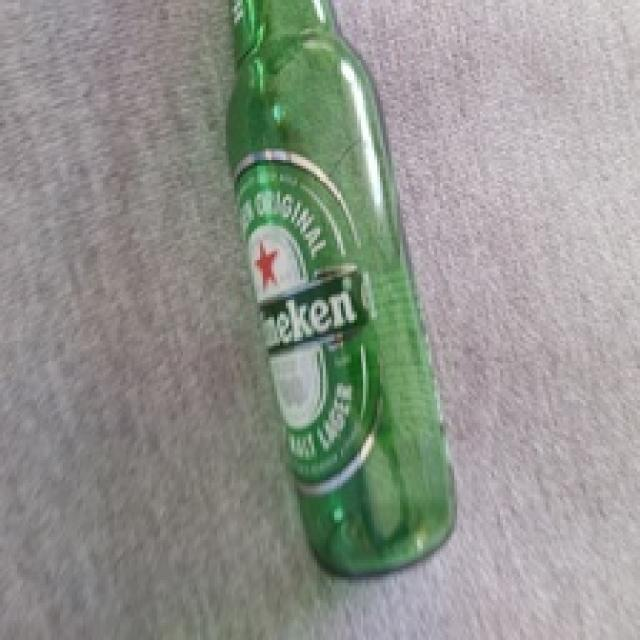Glass: (223, 0, 457, 584)
